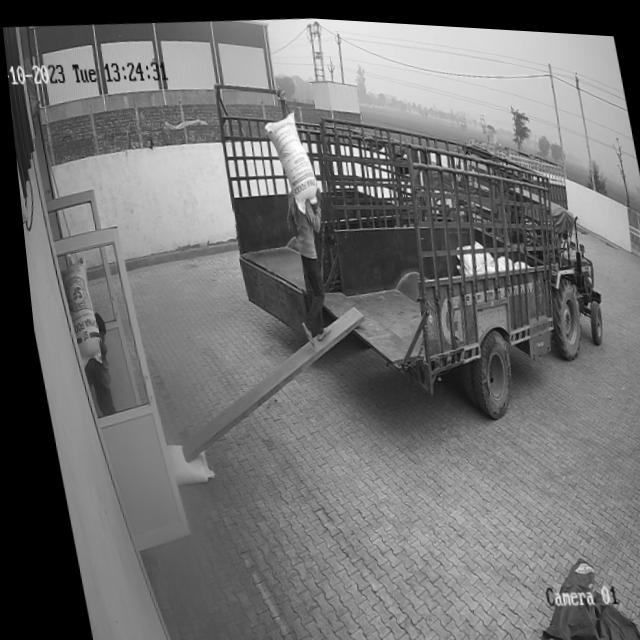sack: (258, 104, 318, 214), (52, 257, 97, 366), (156, 439, 206, 487)
